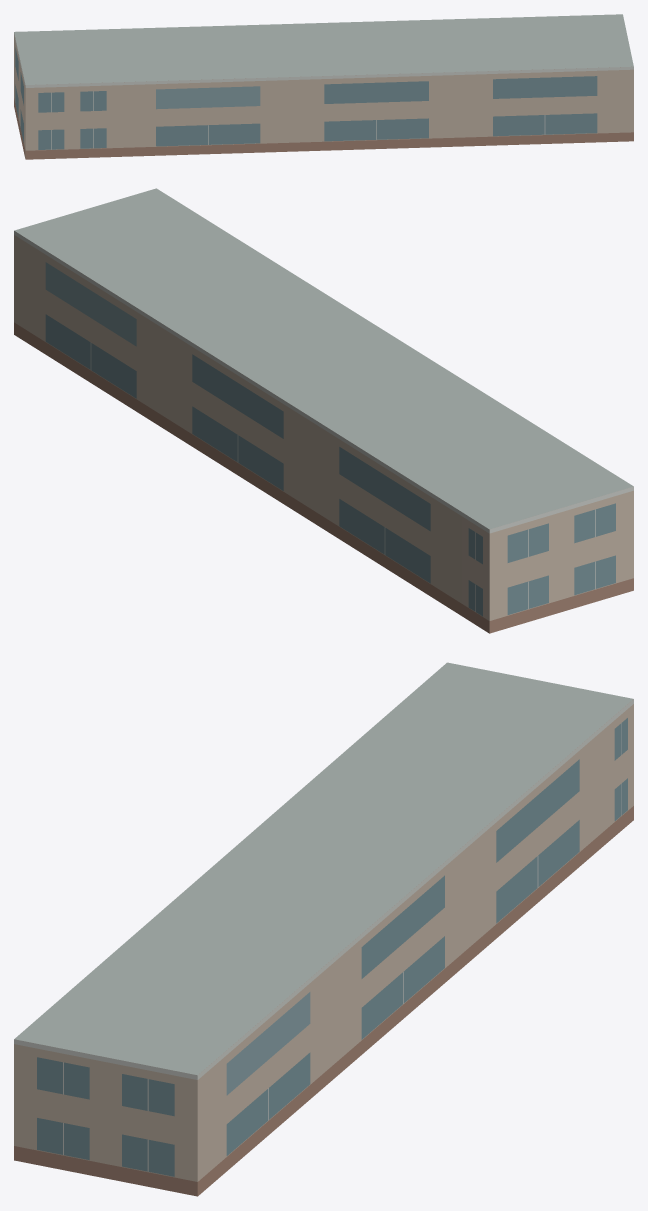
File: survey-upis-33026457.glb
3 renders of one model, top to bottom at view 1: azimuth 30°, elevation 25°; view 2: azimuth 150°, elevation 25°; view 3: azimuth 270°, elevation 25°, orthographic. The views are drawn at different scales.
Visible parts, largest first — view 1: survey-upis-33026457.tmp; view 2: survey-upis-33026457.tmp; view 3: survey-upis-33026457.tmp.
Part boxes in pixels (left/top/right/bottom): survey-upis-33026457.tmp: left=14, top=14, right=633, bottom=159; survey-upis-33026457.tmp: left=14, top=188, right=633, bottom=633; survey-upis-33026457.tmp: left=14, top=662, right=633, bottom=1196.
Bounding box in the file's own units: 44.58 × 6.1 × 28.28.
